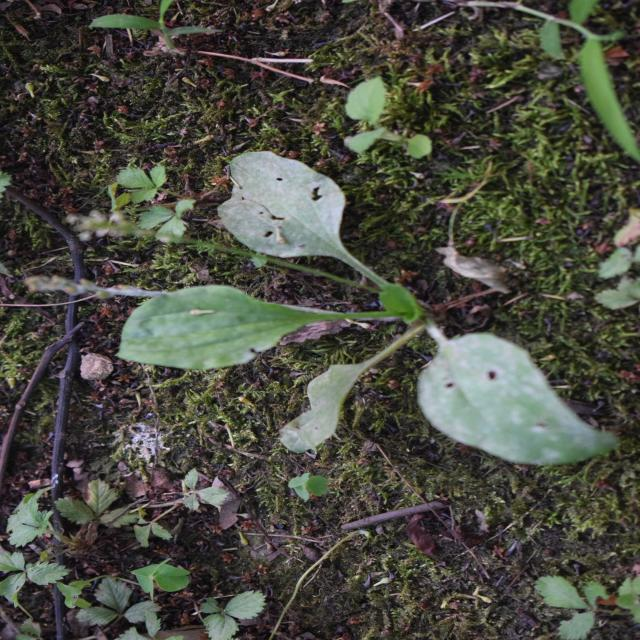plantain: (185, 98, 452, 558)
